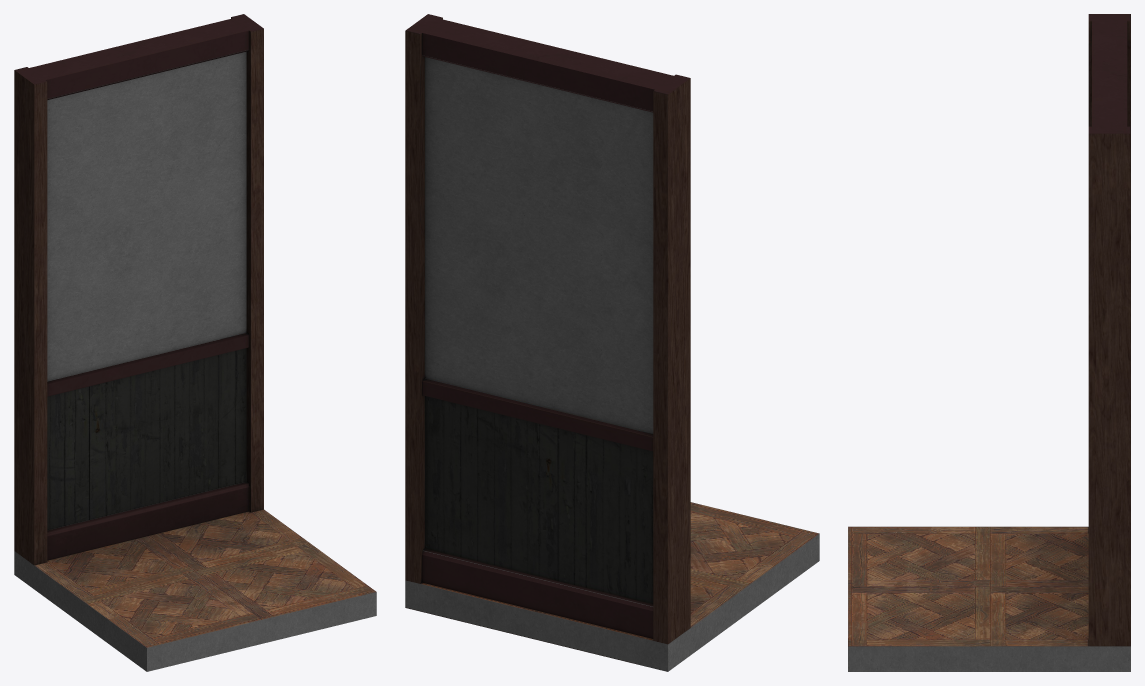
Rendered from SM_Wall_02.fbx.
3 renders of one model, left to right at view 1: azimuth 30°, elevation 25°; view 2: azimuth 150°, elevation 25°; view 3: azimuth 270°, elevation 25°, orthographic. The views are drawn at different scales.
Visible parts, largest first — view 1: Wall_03; view 2: Wall_03; view 3: Wall_03.
Part boxes in pixels (bbox=[...]): Wall_03: bbox=[14, 14, 376, 671]; Wall_03: bbox=[405, 14, 819, 671]; Wall_03: bbox=[848, 14, 1130, 671].
Size of the model in its own units: 200 by 420 by 200.
